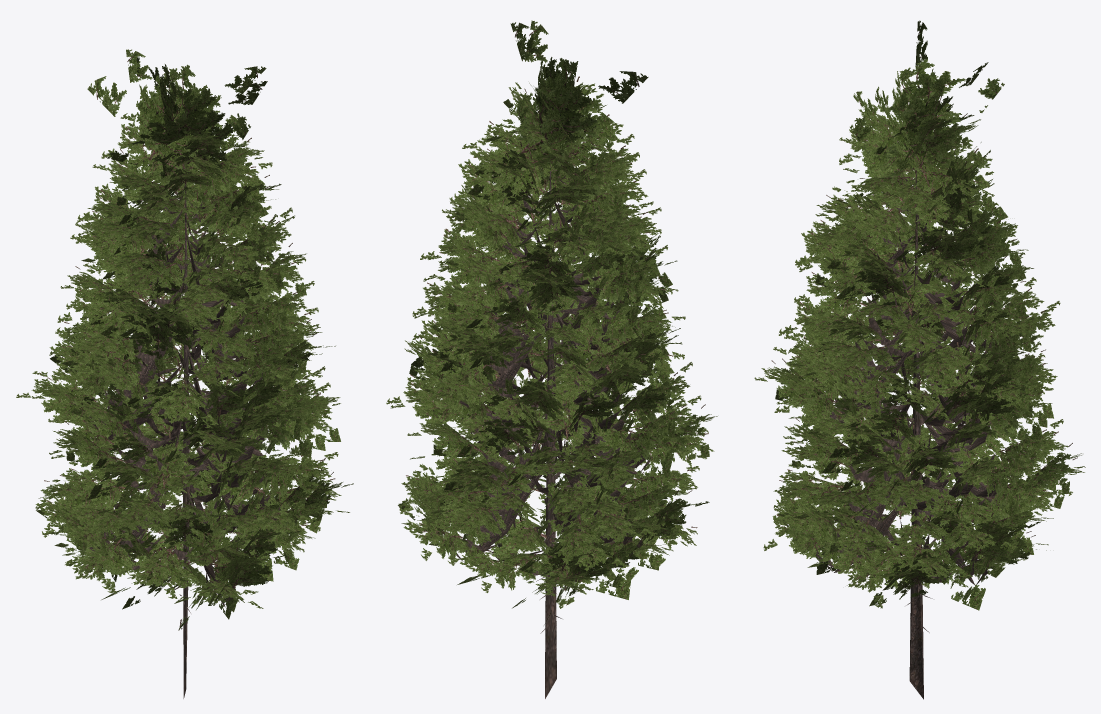
The model's file is tree_fir.obj.
3 renders of one model, left to right at view 1: azimuth 30°, elevation 25°; view 2: azimuth 150°, elevation 25°; view 3: azimuth 270°, elevation 25°, orthographic. The views are drawn at different scales.
Visible parts, largest first — view 1: Tree_Branches, Tree_Bark; view 2: Tree_Branches, Tree_Bark; view 3: Tree_Branches, Tree_Bark.
Boxes of the visible parts, x1,y1,x2,y2 form: Tree_Branches: (16, 49, 353, 630); Tree_Bark: (89, 160, 280, 698); Tree_Branches: (386, 20, 717, 624); Tree_Bark: (456, 161, 656, 698); Tree_Branches: (754, 20, 1085, 610); Tree_Bark: (816, 169, 1021, 699).
Size of the model in its own units: 8.22 by 17.53 by 8.25.
Materials: 2 (2 with a texture image).
